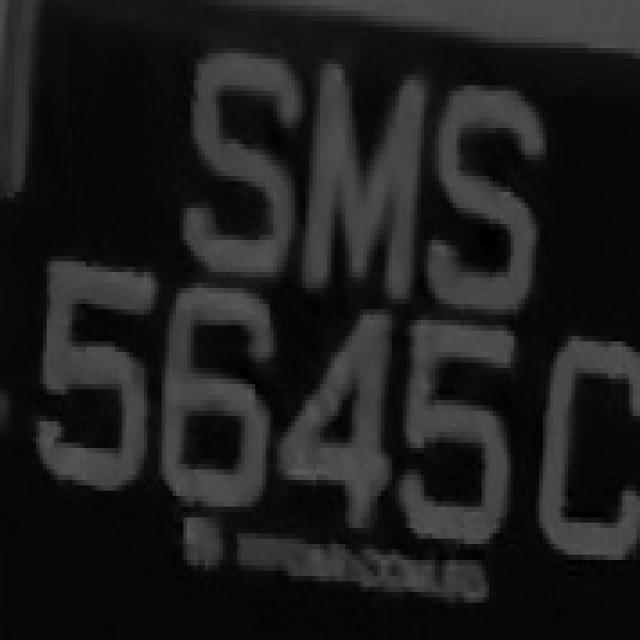4: (262, 266, 392, 554)
5: (36, 208, 158, 496), (406, 282, 511, 570)
6: (148, 234, 274, 538)
C: (535, 298, 640, 597)
M: (298, 43, 421, 309)
S: (184, 21, 298, 299), (438, 69, 546, 320)
